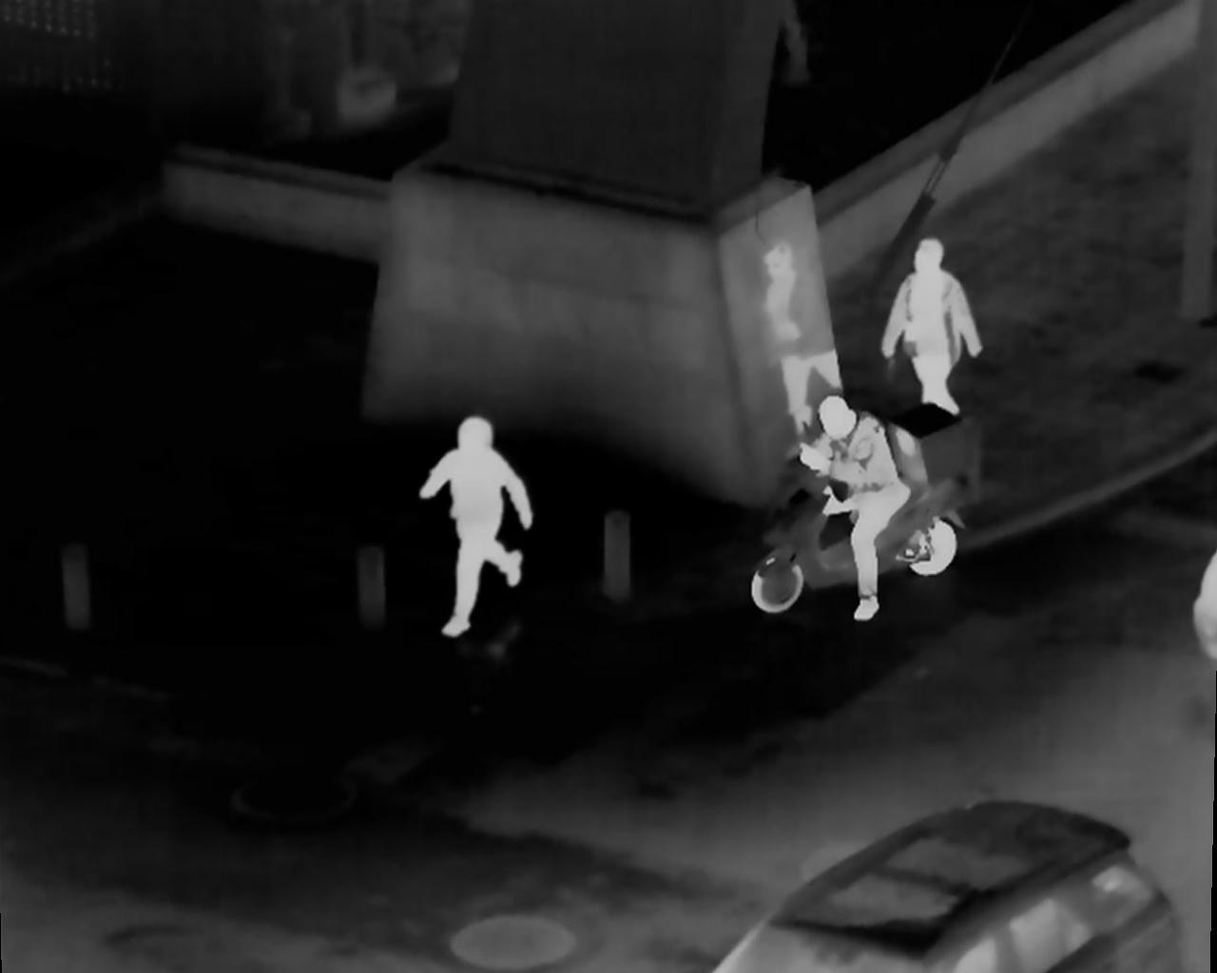person: (784, 390, 916, 625), (410, 420, 547, 637), (887, 224, 976, 414)
